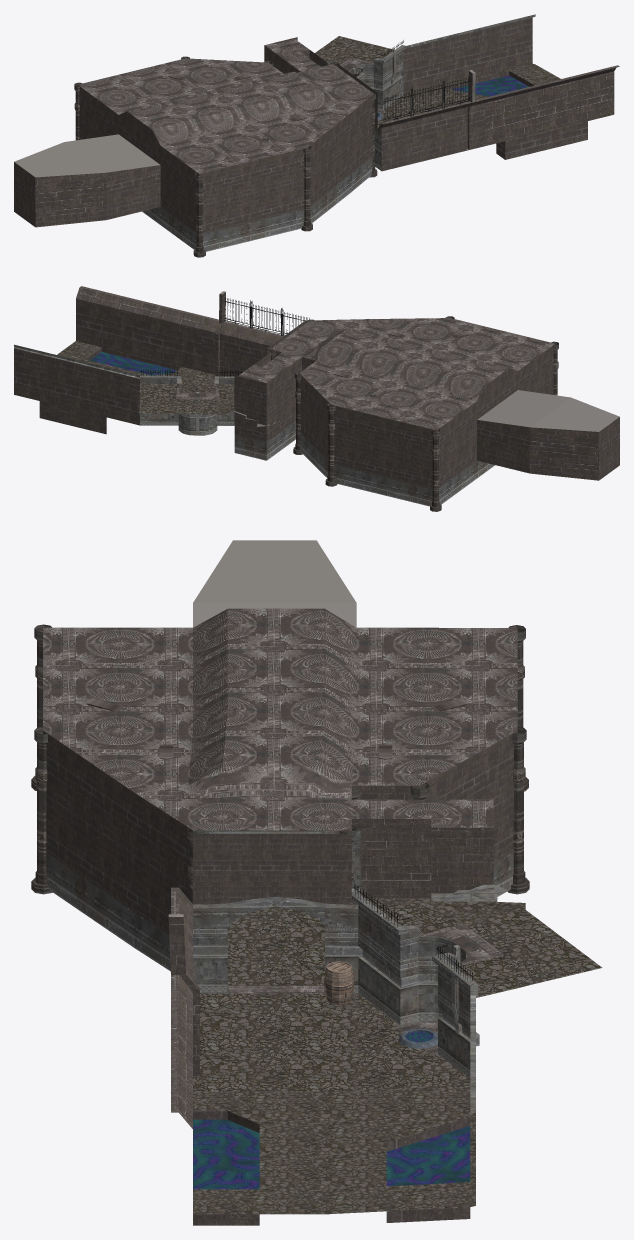
The model's file is 2environment test.fbx.
The picture shows the model from 3 angles, top to bottom: view 1: azimuth 30°, elevation 25°; view 2: azimuth 150°, elevation 25°; view 3: azimuth 270°, elevation 25°; orthographic projection. The views are drawn at different scales.
Parts seen in each view (by area): view 1: Plane, Plane.004, Plane.005, Circle.004, Circle.005; view 2: Plane, Plane.004, Plane.005, Circle.003, Circle.001, Circle.002; view 3: Plane, Plane.004, Circle.001, Circle.005, Cylinder.001.
Boxes of the visible parts, bbox=[...] form: Plane: bbox=[14, 36, 489, 251]; Plane.004: bbox=[403, 14, 619, 159]; Plane.005: bbox=[383, 77, 471, 121]; Circle.004: bbox=[193, 172, 205, 257]; Circle.005: bbox=[301, 146, 312, 231]; Plane: bbox=[139, 291, 619, 506]; Plane.004: bbox=[14, 286, 207, 434]; Plane.005: bbox=[224, 297, 309, 336]; Circle.003: bbox=[430, 429, 441, 511]; Circle.001: bbox=[325, 403, 337, 486]; Circle.002: bbox=[293, 371, 302, 454]; Plane: bbox=[43, 540, 602, 1091]; Plane.004: bbox=[171, 989, 475, 1225]; Circle.001: bbox=[507, 726, 529, 894]; Circle.005: bbox=[31, 726, 52, 894]; Cylinder.001: bbox=[324, 961, 353, 1004].
Bounding box in the file's own units: 3306 × 602 × 1476.
